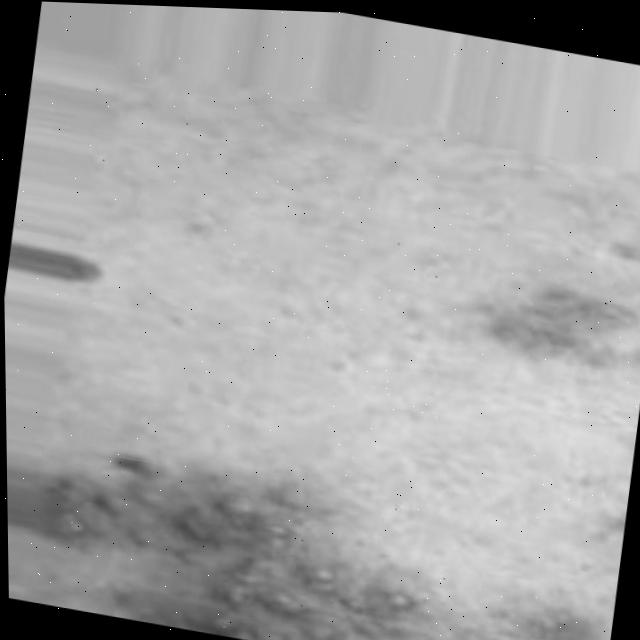Shingles: (48, 467, 578, 640), (497, 282, 633, 371)
